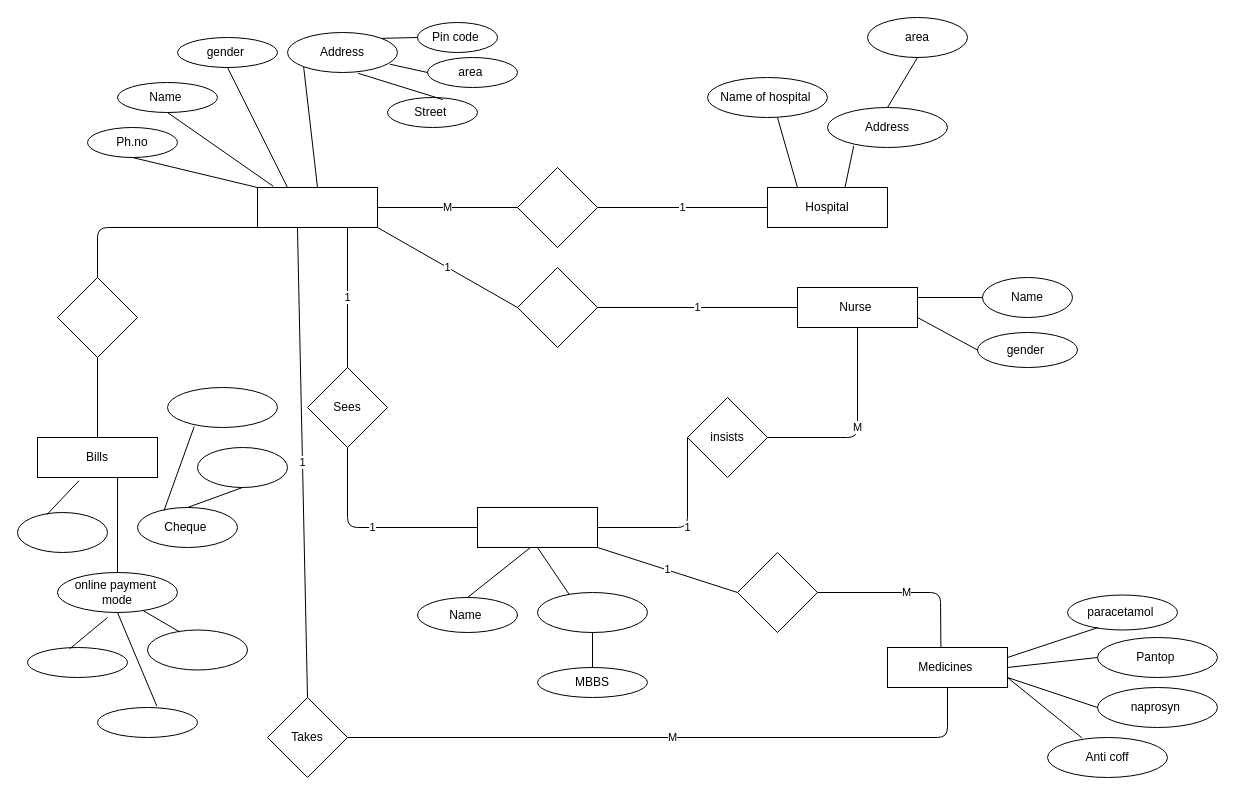
Some shapes in this 1235 by 795 pixel diagram are drawn without their labels. Each missing label, with the centre of its shape:
Acc no: [222,407]
admits: [557,207]
Bank: [242,467]
Cash: [62,532]
doctor: [537,527]
G pay: [77,662]
Patient: [317,207]
Pays: [97,317]
Phone pe: [147,722]
Qualification: [592,612]
suggests: [777,592]
taken care: [557,307]
UPI: [197,649]
